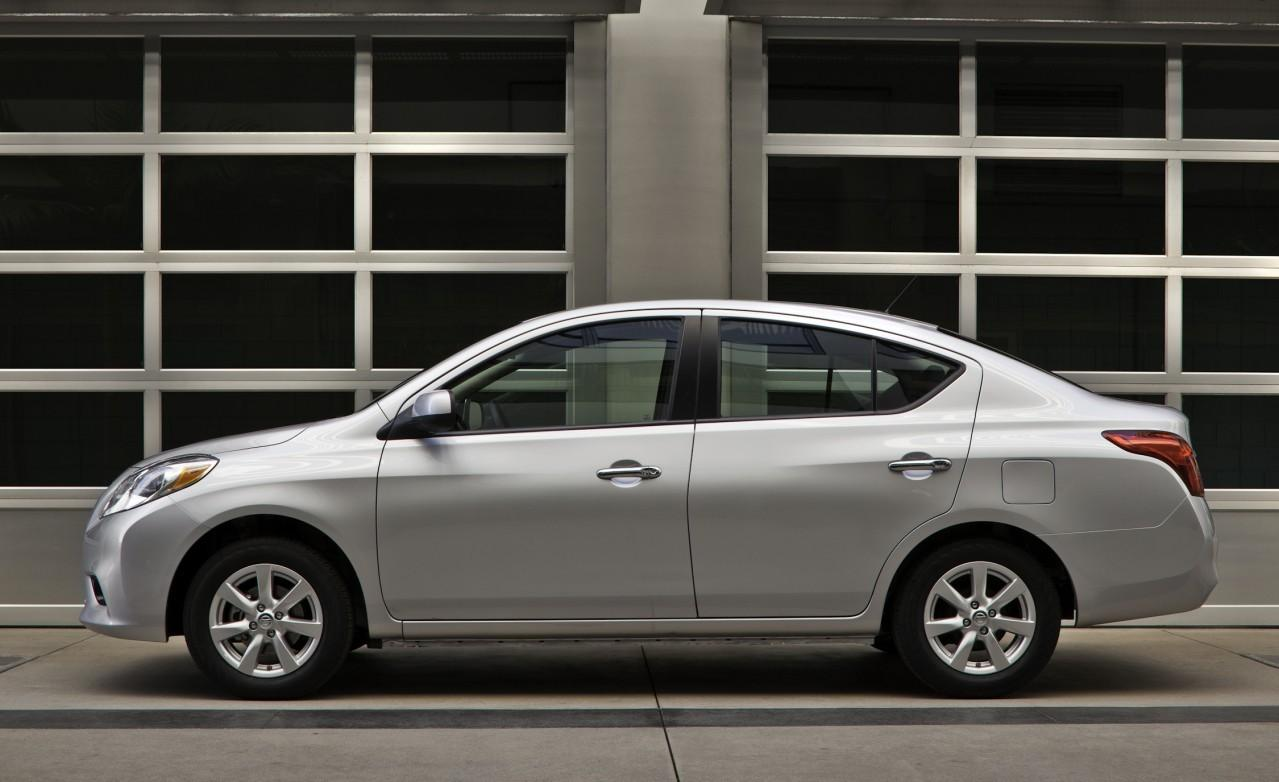Sedan: (78, 295, 1220, 700)
